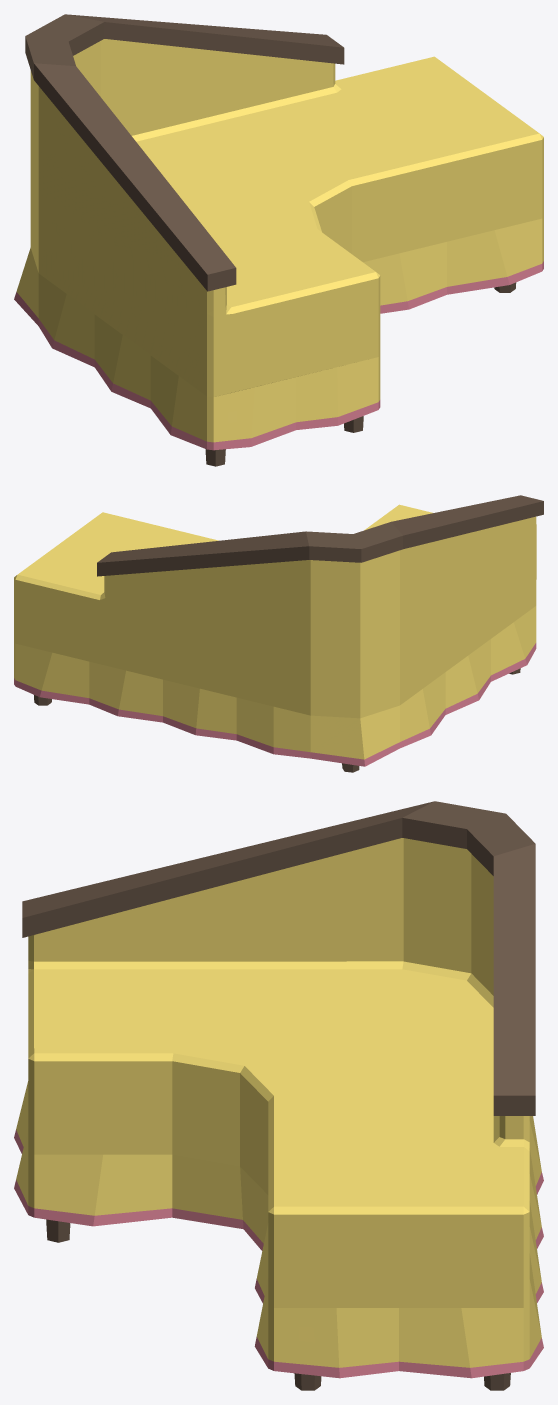
The model's file is Couch_8.fbx.
3 renders of one model, top to bottom at view 1: azimuth 30°, elevation 25°; view 2: azimuth 150°, elevation 25°; view 3: azimuth 270°, elevation 25°, orthographic. The views are drawn at different scales.
Parts seen in each view (by area): view 1: Couch_8; view 2: Couch_8; view 3: Couch_8.
Boxes of the visible parts, x1,y1,x2,y2 form: Couch_8: [14, 14, 543, 466]; Couch_8: [14, 495, 543, 772]; Couch_8: [14, 801, 543, 1390].
Size of the model in its own units: 152 by 127 by 90.77.
